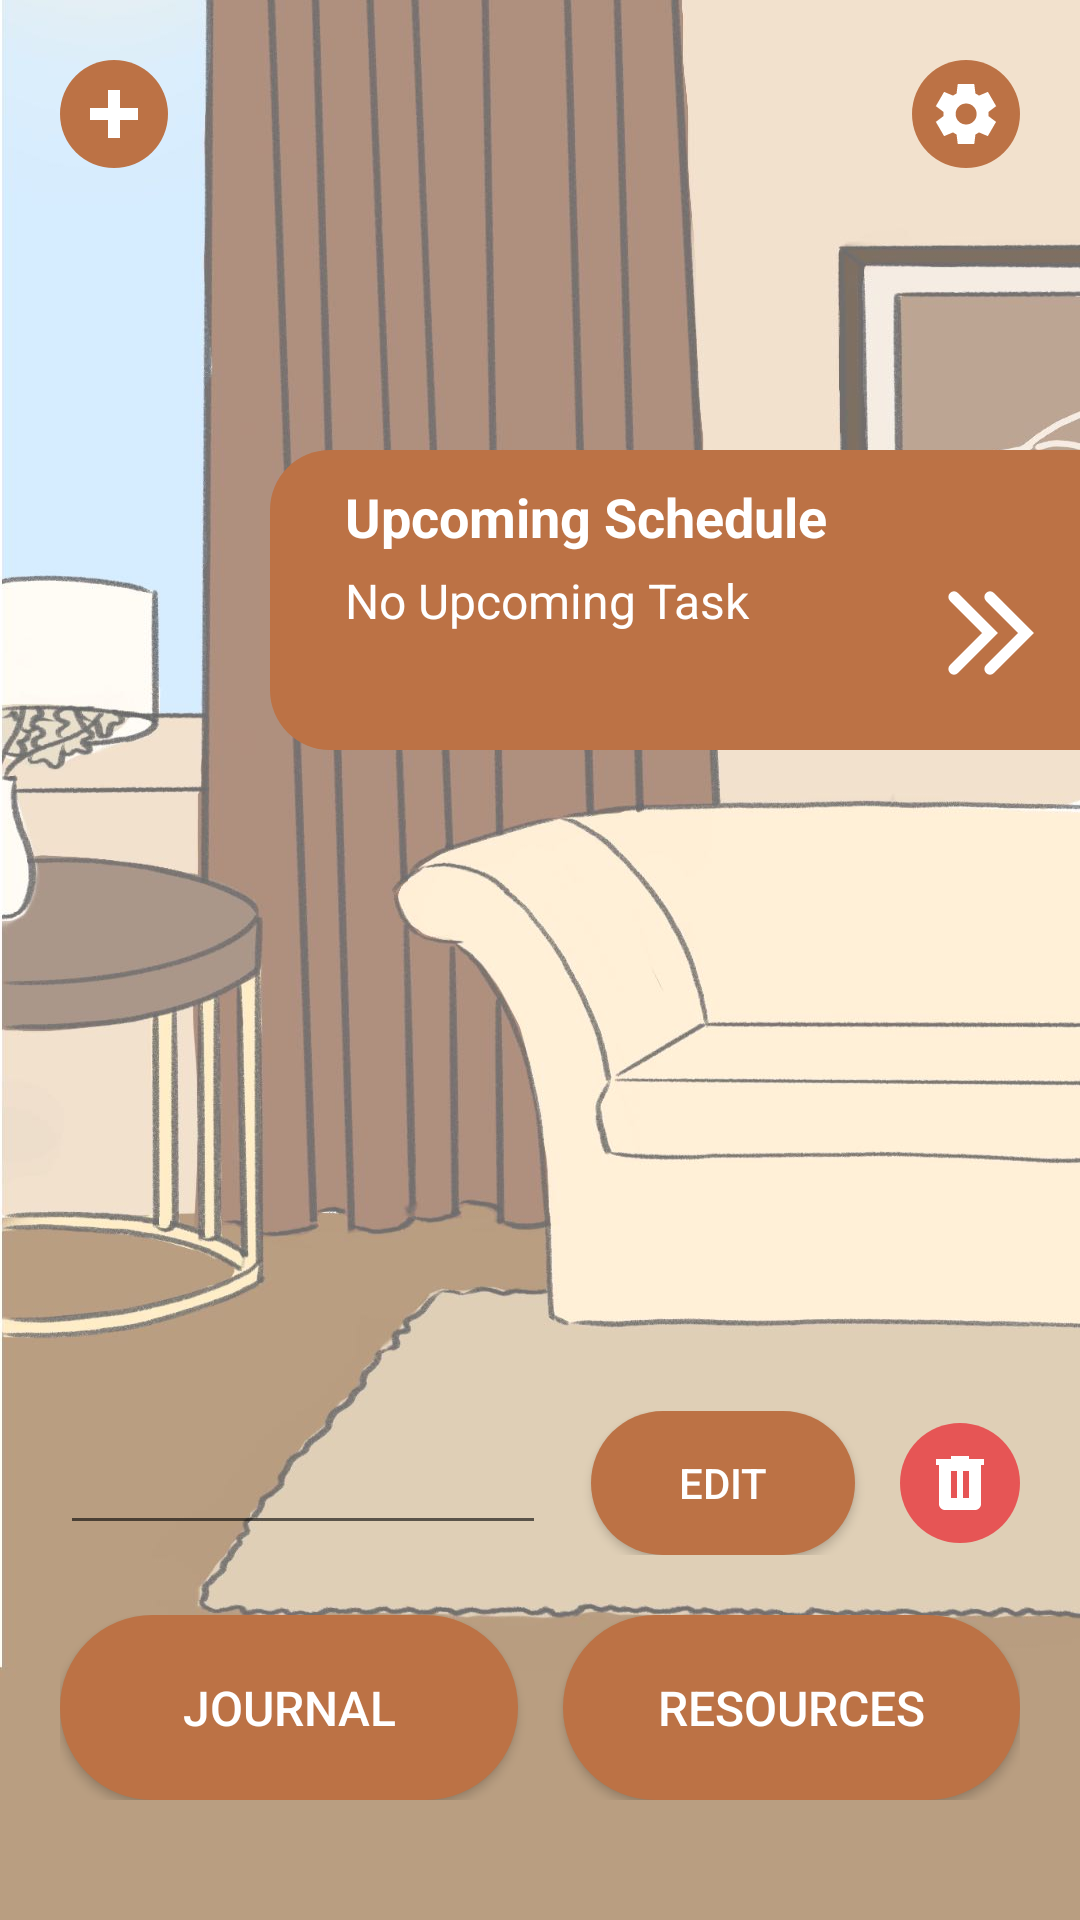

Where to tap for icons on this 1080px x 1920px app screen, as (x,y):
add: (114,114)
delete: (960,1483)
forwardbutton: (991,633)
Settings: (966,114)
